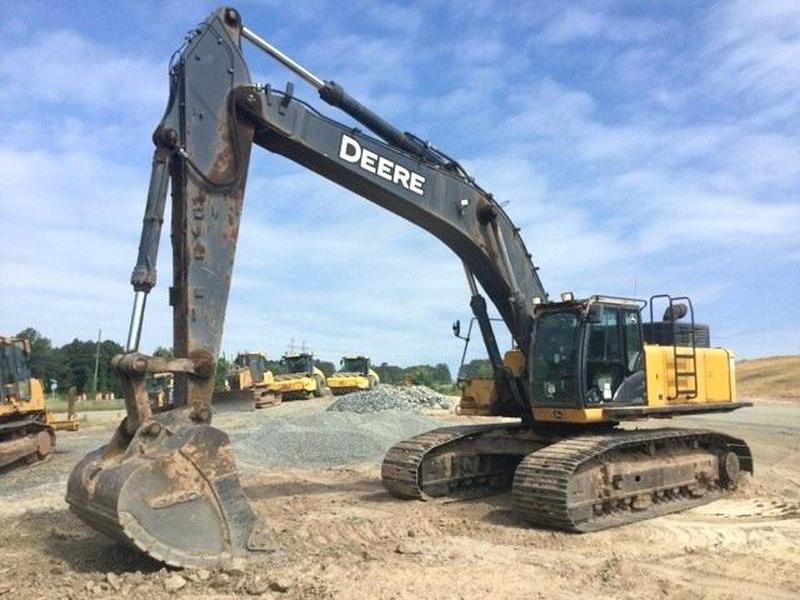shovel: (58, 1, 761, 575)
